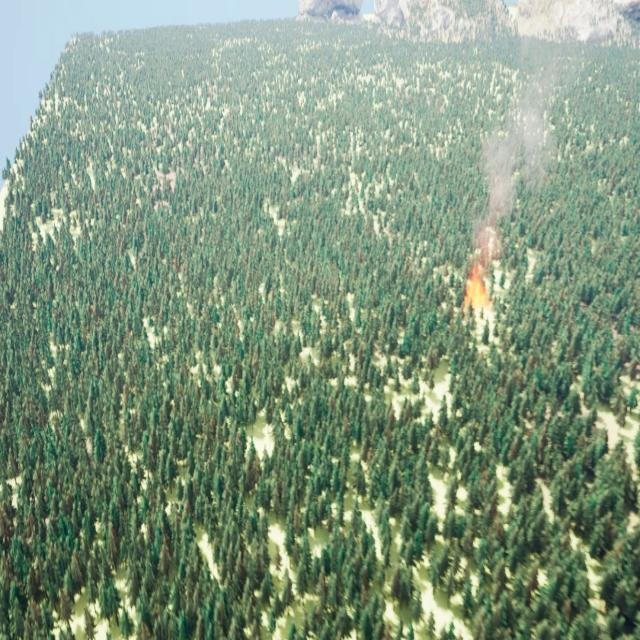fire: (462, 268, 492, 312)
smoke: (472, 74, 554, 269)
